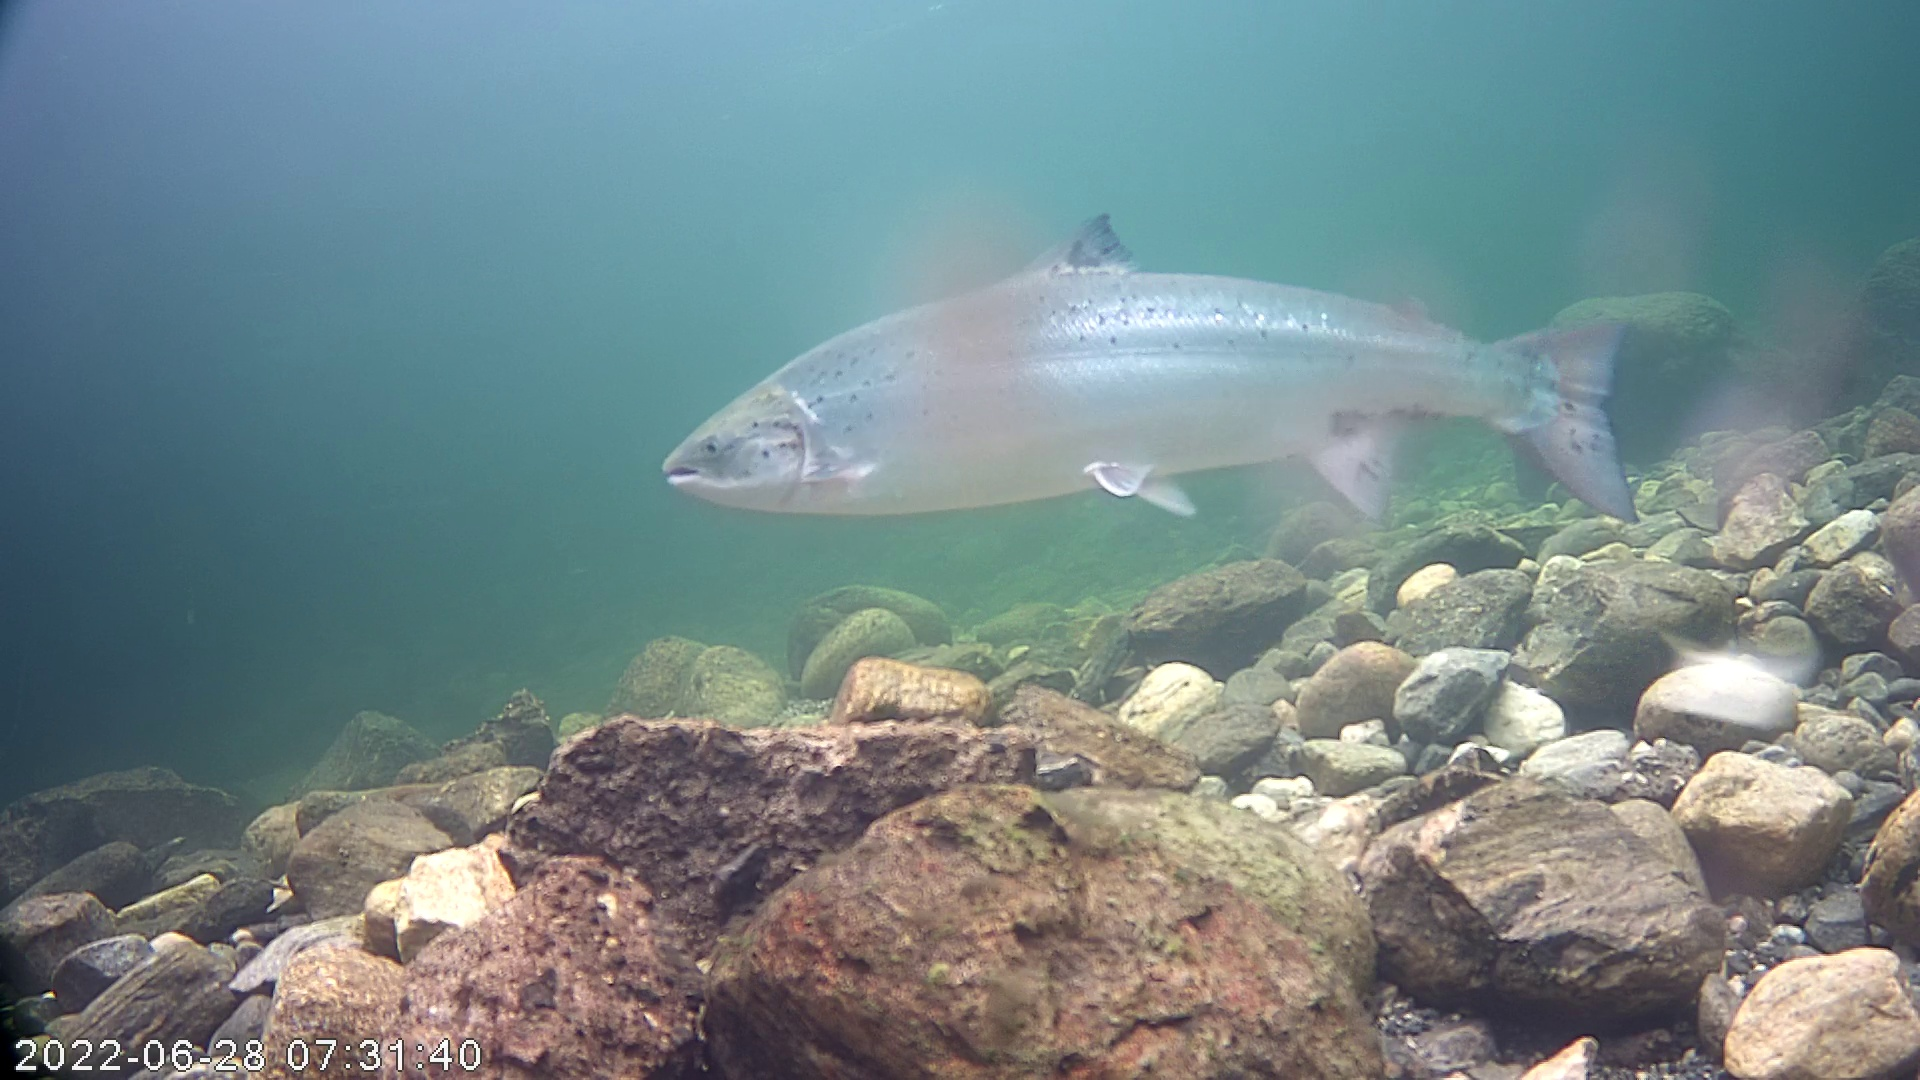salmon: (651, 135, 1685, 582)
